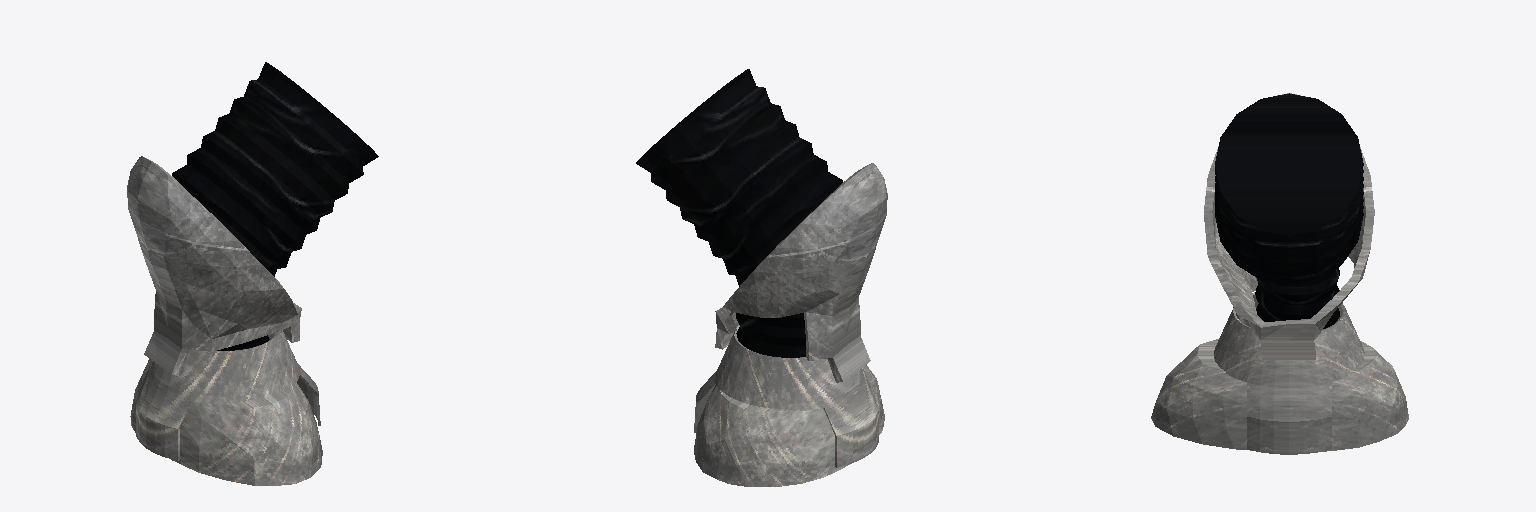
3 views of the same model, side by side, from view 1: azimuth 30°, elevation 25°; view 2: azimuth 150°, elevation 25°; view 3: azimuth 270°, elevation 25° (orthographic).
Visible parts, largest first — view 1: Right_Leg; view 2: Right_Leg; view 3: Right_Leg.
Boxes of the visible parts, x1=… form: Right_Leg: x1=127, y1=62, x2=378, y2=485; Right_Leg: x1=636, y1=69, x2=887, y2=486; Right_Leg: x1=1151, y1=93, x2=1408, y2=454.
Bounding box in the file's own units: 0.297 × 0.4376 × 0.2912.
Materials: 1 (1 with a texture image).